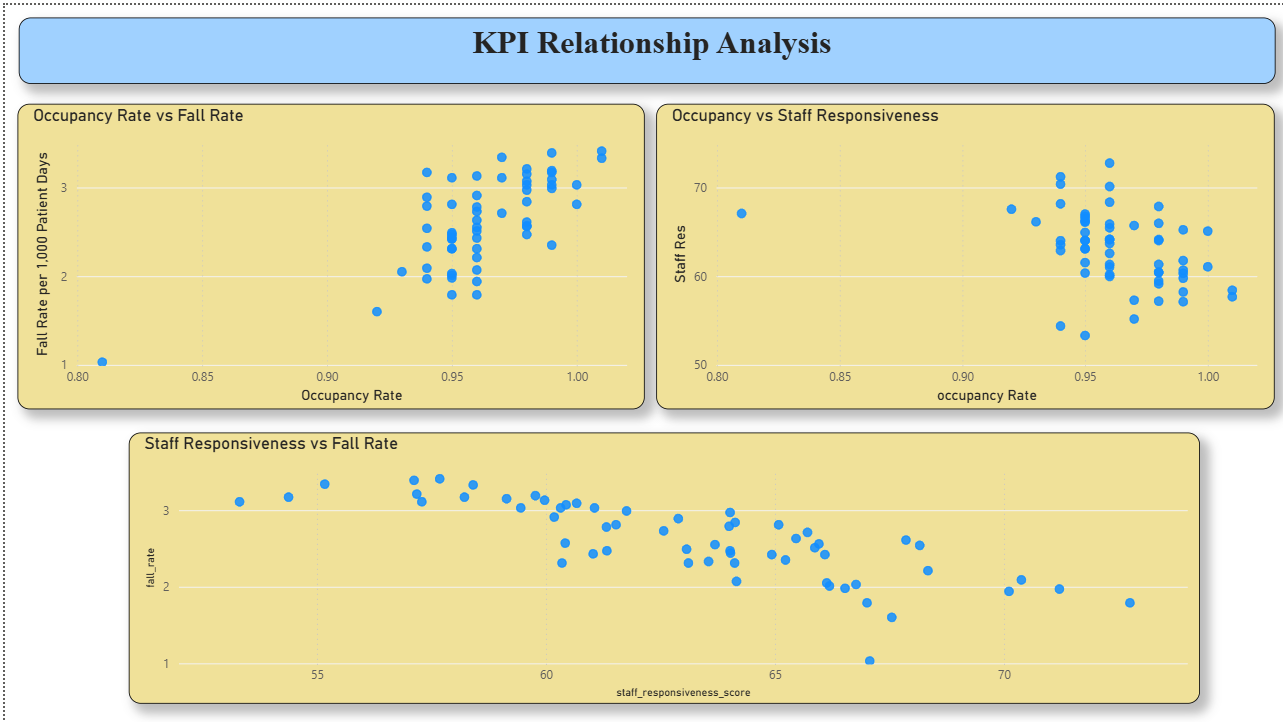

Layout of this report page (visuals, bound fields, positions):
{"tool":"powerbi","page":{"name":"KPI Relationship Analysis","canvas":[1280,720],"ordinal":1},"visuals":[{"type":"scatterChart","title":"Occupancy Rate vs Fall Rate","fields":{"X":["Avg(public healthcare_kpi_cleaned.occupancyrate)"],"Y":["Avg(public healthcare_kpi_cleaned.fallrateper1000patientdays)"],"Category":["public healthcare_kpi_cleaned.yearmonth"]},"box":[12.9,98.6,627.1,305.7],"z":0},{"type":"textbox","box":[13.5,12.3,1256.4,66.3],"z":1},{"type":"scatterChart","title":"Occupancy vs Staff Responsiveness","fields":{"Category":["public healthcare_kpi_cleaned.yearmonth"],"X":["Avg(public healthcare_kpi_cleaned.occupancyrate)"],"Y":["Sum(public healthcare_kpi_cleaned.staffresponsivenessscore)"]},"box":[651.4,98.6,618.6,305.7],"z":2},{"type":"scatterChart","title":"Staff Responsiveness vs Fall Rate","fields":{"X":["Avg(public healthcare_kpi_cleaned.staffresponsivenessscore)"],"Y":["Avg(public healthcare_kpi_cleaned.fallrateper1000patientdays)"],"Category":["public healthcare_kpi_cleaned.yearmonth"]},"box":[124.3,427.1,1071.4,271.4],"z":3}]}

Visuals, with their boxes in screenshot pixels (x1, y1, x2, y2), scaled from the page's 1280x720 canvas onto the 1283x722 screenshot:
"Occupancy Rate vs Fall Rate" scatterChart: (13, 99, 642, 405)
textbox: (14, 12, 1273, 79)
"Occupancy vs Staff Responsiveness" scatterChart: (653, 99, 1273, 405)
"Staff Responsiveness vs Fall Rate" scatterChart: (125, 428, 1199, 700)
